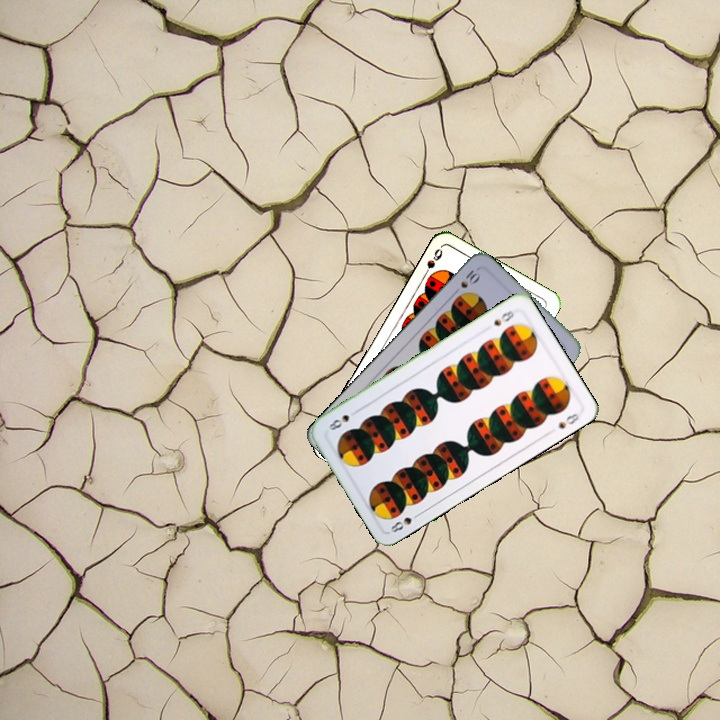S10: (450, 265, 483, 297)
S8: (386, 508, 424, 535), (489, 306, 517, 328)
S9: (418, 244, 445, 281)
